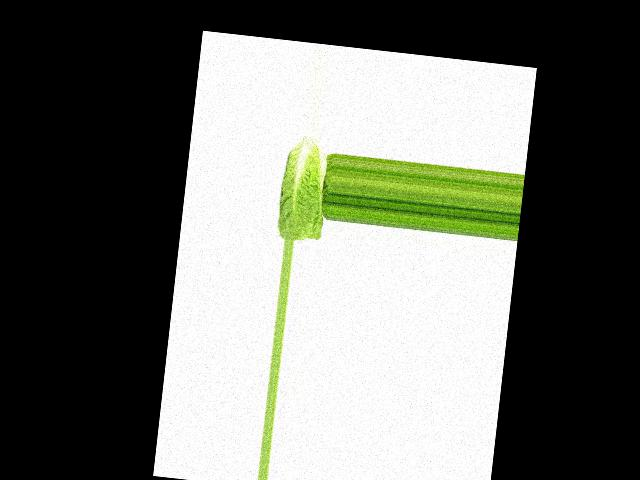lettuce: (268, 133, 330, 244)
